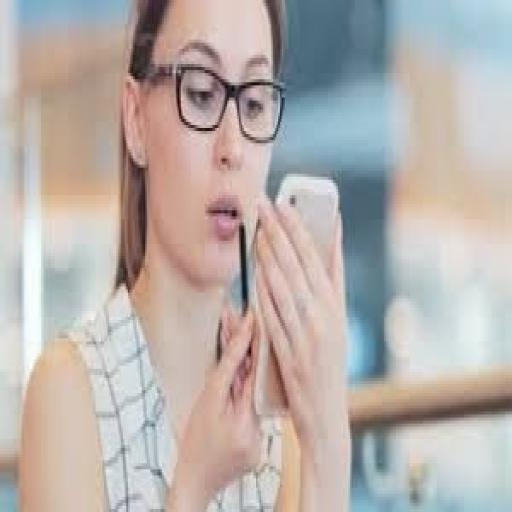texting: (15, 0, 355, 509)
